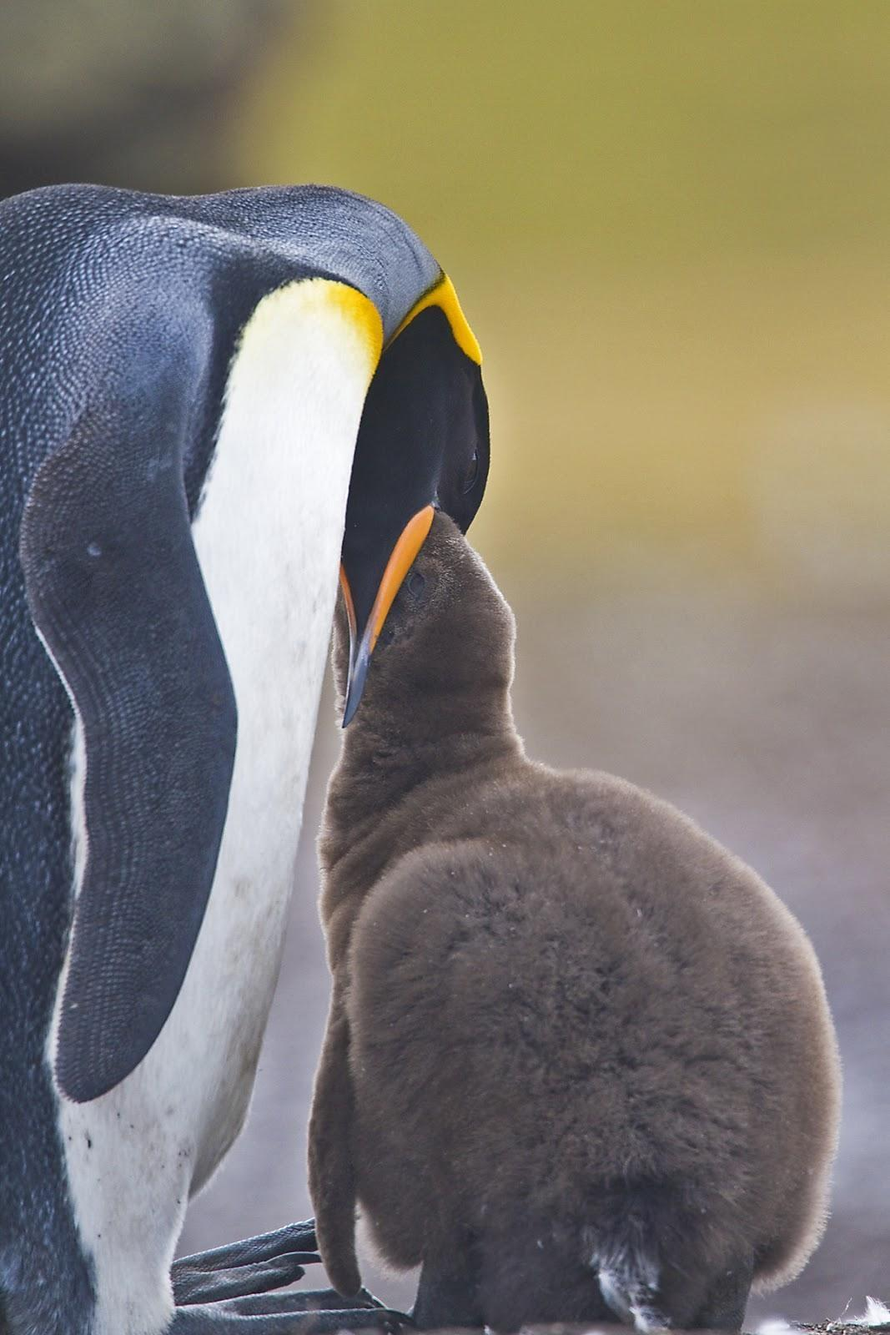Penguin: (3, 185, 490, 1334), (309, 514, 837, 1331)
